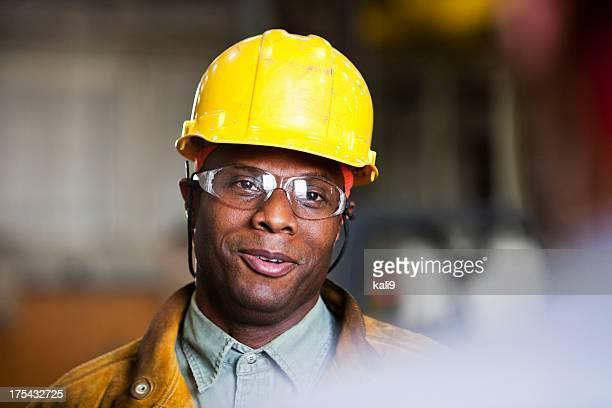helmet: (174, 28, 380, 175)
